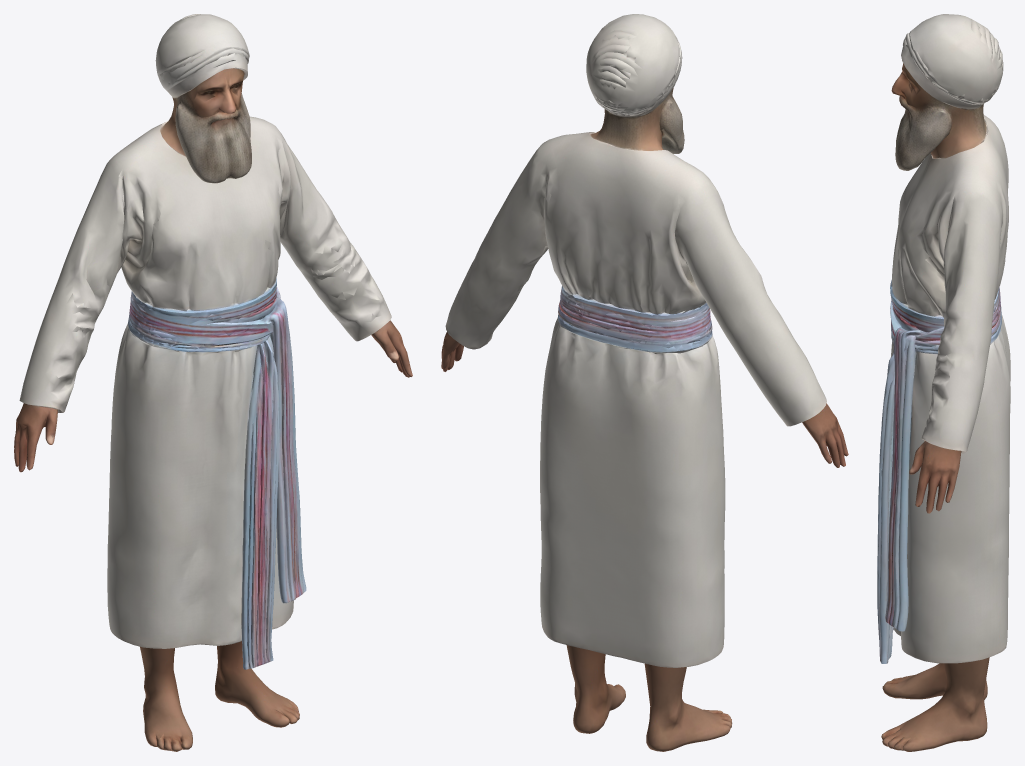
File: cohen_1.glb
3 renders of one model, left to right at view 1: azimuth 30°, elevation 25°; view 2: azimuth 150°, elevation 25°; view 3: azimuth 270°, elevation 25°, orthographic. The views are drawn at different scales.
Visible parts, largest first — view 1: Mesh; view 2: Mesh; view 3: Mesh.
Boxes of the visible parts, x1,y1,x2,y2 form: Mesh: (14, 14, 412, 751); Mesh: (441, 14, 848, 751); Mesh: (877, 14, 1010, 751).
Size of the model in its own units: 1.11 by 1.89 by 0.3266.
Materials: 1 (1 with a texture image).
